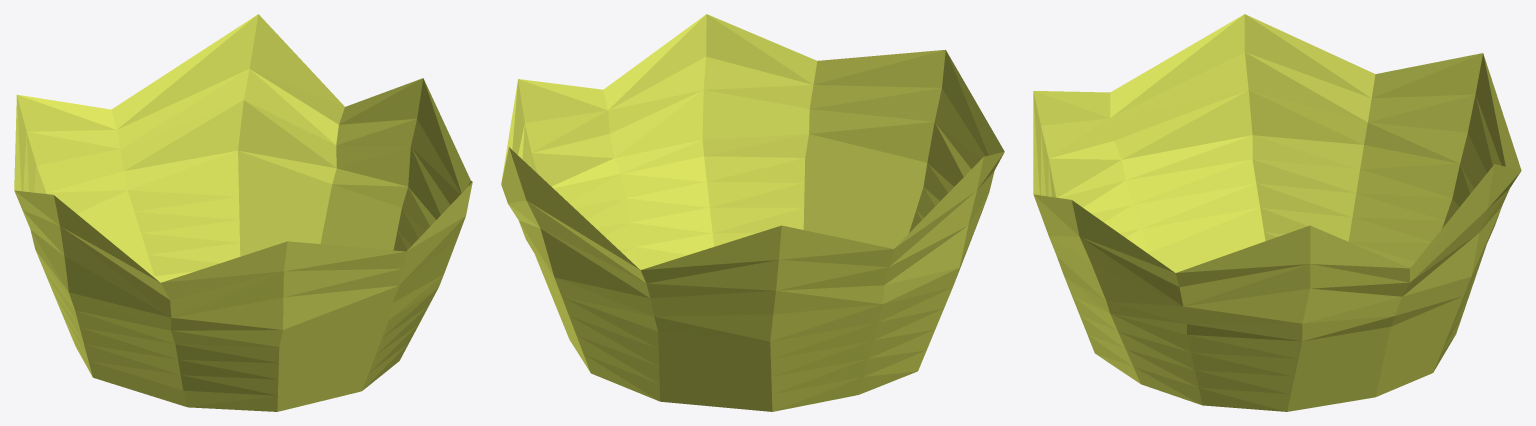
The model's file is obj_portal_9_0.obj.
3 views of the same model, side by side, from view 1: azimuth 30°, elevation 25°; view 2: azimuth 150°, elevation 25°; view 3: azimuth 270°, elevation 25° (orthographic). The views are drawn at different scales.
Bounding box in the file's own units: 1 × 0.5234 × 0.9922.
